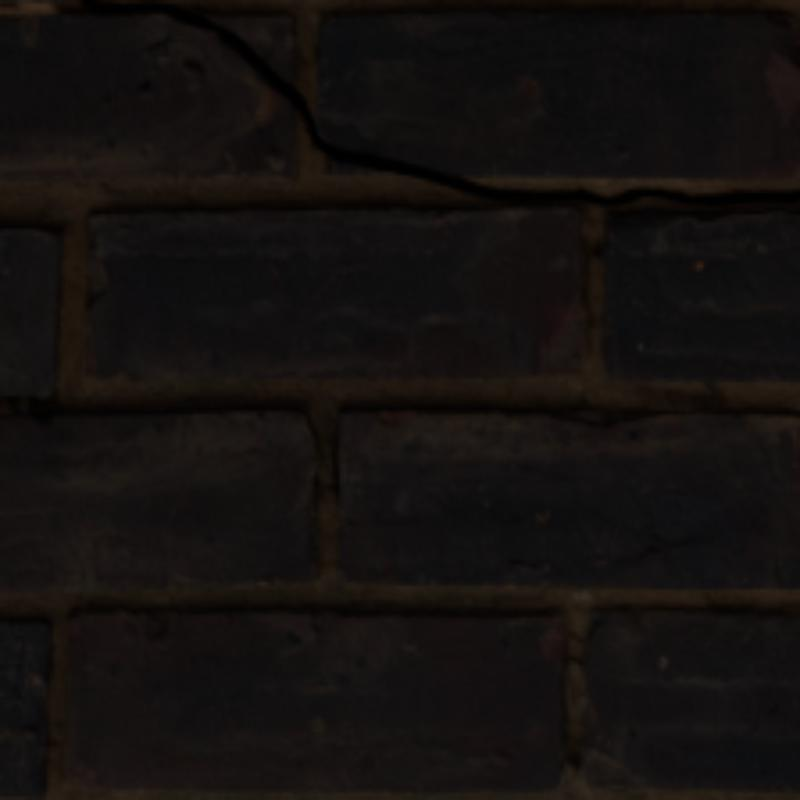pothole: (82, 0, 796, 204)
